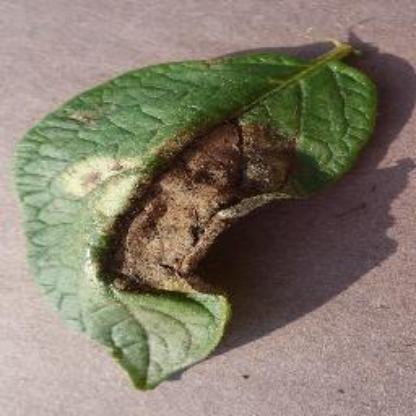Late-Blight: (10, 33, 386, 392)
